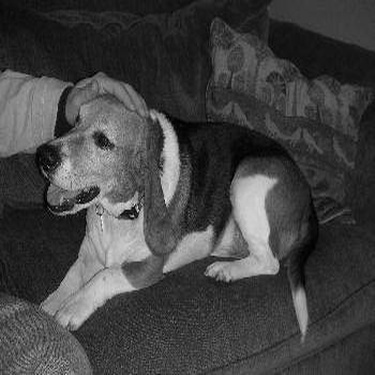dog: (28, 80, 320, 351)
